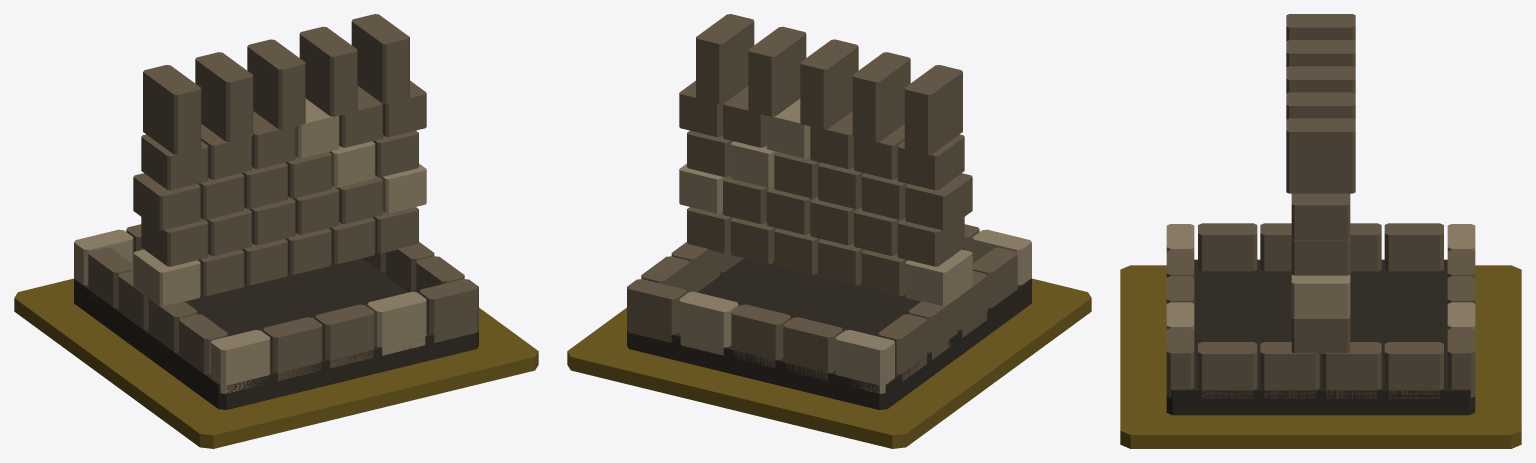
The model's file is stonewall_t1.glb.
The picture shows the model from 3 angles, left to right: view 1: azimuth 30°, elevation 25°; view 2: azimuth 150°, elevation 25°; view 3: azimuth 270°, elevation 25°; orthographic projection. The views are drawn at different scales.
Visible parts, largest first — view 1: MMR | stonewall | T01 Architecture.001, MMR | stonewall | Tier 01 Ground.001; view 2: MMR | stonewall | T01 Architecture.001, MMR | stonewall | Tier 01 Ground.001; view 3: MMR | stonewall | T01 Architecture.001, MMR | stonewall | Tier 01 Ground.001.
Boxes of the visible parts, left/top/right/bottom form: MMR | stonewall | T01 Architecture.001: left=74, top=14, right=478, bottom=409; MMR | stonewall | Tier 01 Ground.001: left=14, top=278, right=538, bottom=448; MMR | stonewall | T01 Architecture.001: left=627, top=14, right=1031, bottom=409; MMR | stonewall | Tier 01 Ground.001: left=567, top=278, right=1091, bottom=448; MMR | stonewall | T01 Architecture.001: left=1166, top=14, right=1475, bottom=415; MMR | stonewall | Tier 01 Ground.001: left=1120, top=265, right=1521, bottom=448.
Size of the model in its own units: 1.3 by 1.04 by 1.3.
Materials: 1 (1 with a texture image).
